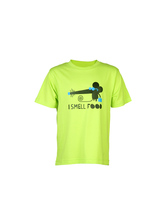clothoes: (34, 58, 134, 168)
